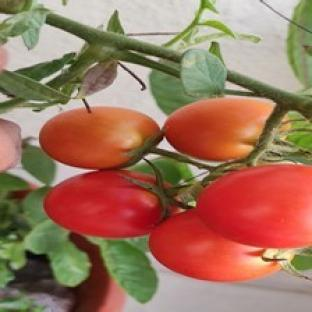Tomato: (150, 209, 281, 281), (197, 165, 311, 247), (45, 170, 162, 238), (39, 106, 160, 168), (165, 98, 272, 161), (72, 233, 126, 311), (0, 119, 22, 171), (0, 45, 6, 71)
